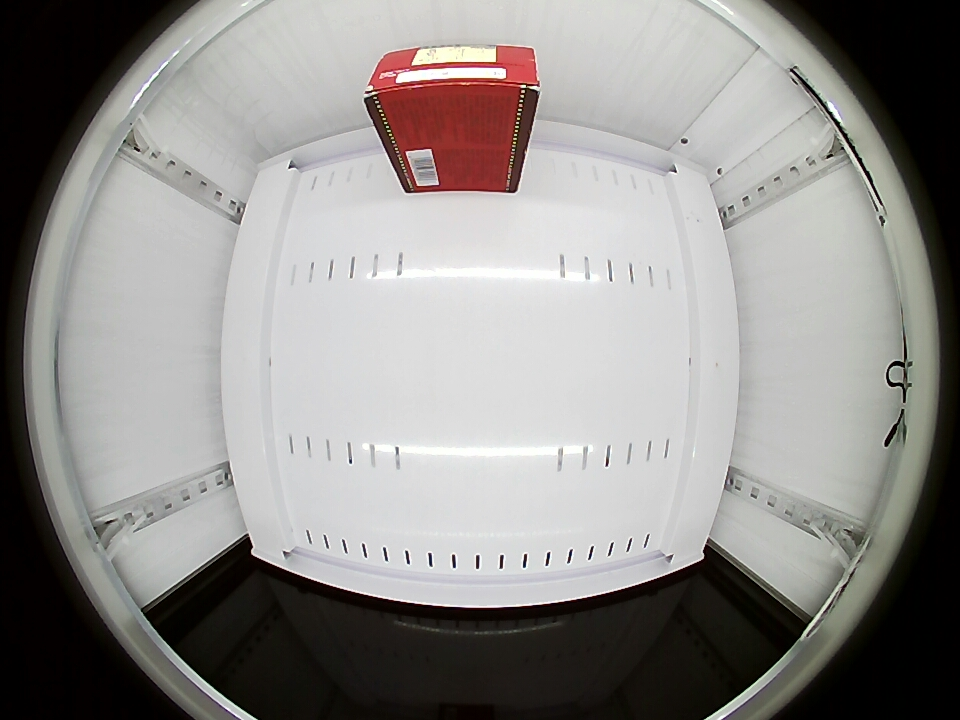haoliyou: (364, 43, 541, 185)
